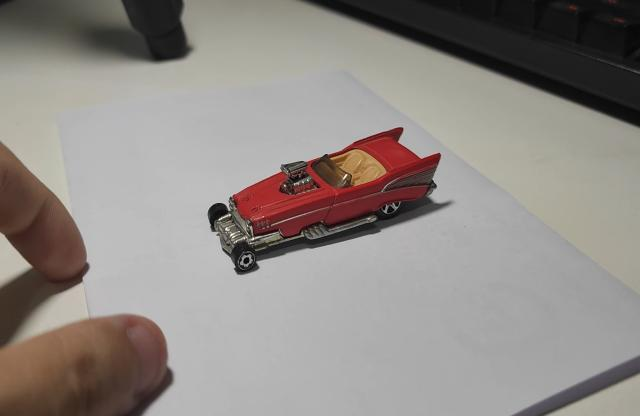03_V8: (208, 128, 442, 276)
